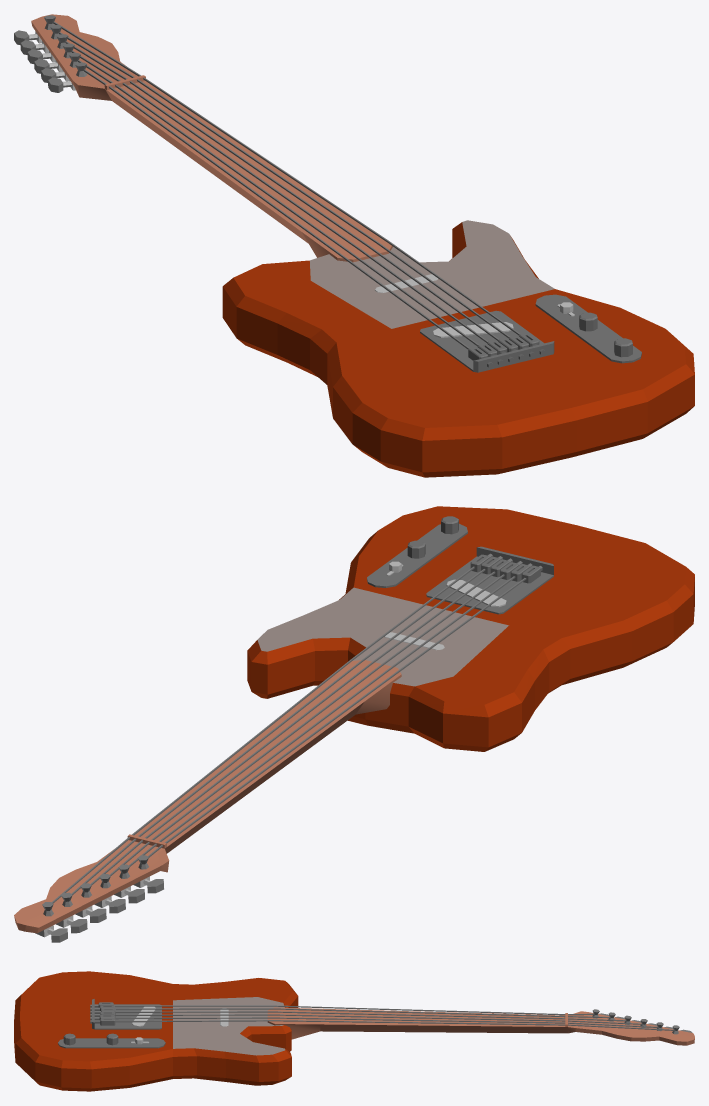
Rendered from Electric Guitar Red (1).obj.
3 renders of one model, top to bottom at view 1: azimuth 30°, elevation 25°; view 2: azimuth 150°, elevation 25°; view 3: azimuth 270°, elevation 25°, orthographic. The views are drawn at different scales.
Parts seen in each view (by area): view 1: Electric Guitar Red (1); view 2: Electric Guitar Red (1); view 3: Electric Guitar Red (1).
Boxes of the visible parts, x1=… form: Electric Guitar Red (1): x1=14, y1=14, x2=694, y2=477; Electric Guitar Red (1): x1=14, y1=506, x2=694, y2=942; Electric Guitar Red (1): x1=14, y1=971, x2=694, y2=1091.
Bounding box in the file's own units: 0.3912 × 0.074 × 1.18.
